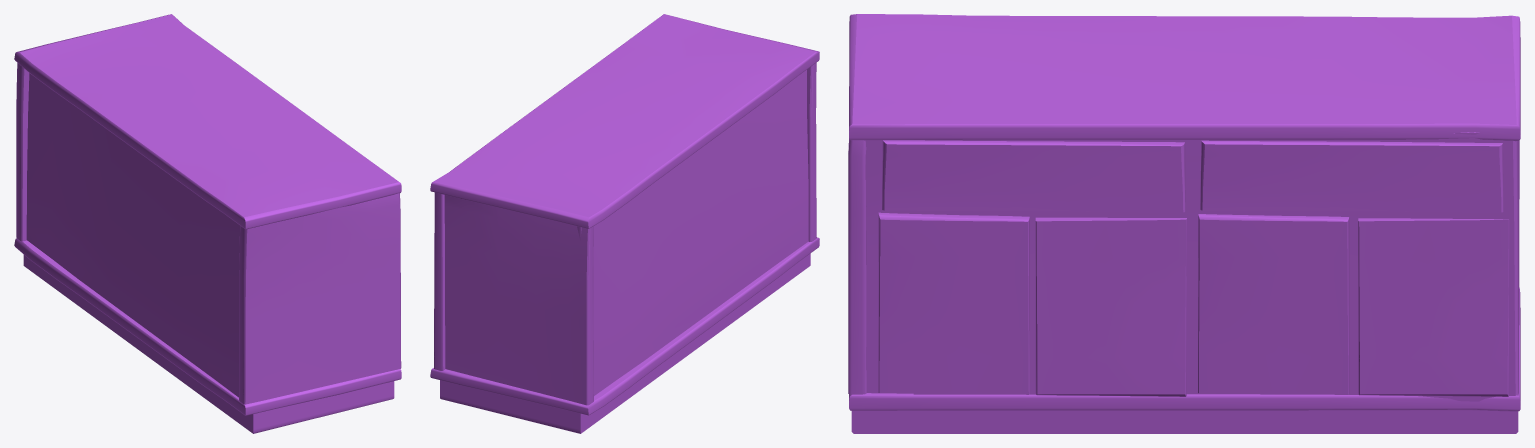
The model's file is Friday_KitchenCounter.fbx.
3 views of the same model, side by side, from view 1: azimuth 30°, elevation 25°; view 2: azimuth 150°, elevation 25°; view 3: azimuth 270°, elevation 25° (orthographic). The views are drawn at different scales.
Parts seen in each view (by area): view 1: KitchenCabinet; view 2: KitchenCabinet; view 3: KitchenCabinet.
Part boxes in pixels (left/top/right/bottom): KitchenCabinet: left=14, top=14, right=401, bottom=433; KitchenCabinet: left=430, top=14, right=819, bottom=433; KitchenCabinet: left=848, top=14, right=1520, bottom=433.
Size of the model in its own units: 31.06 by 40.56 by 78.16.
